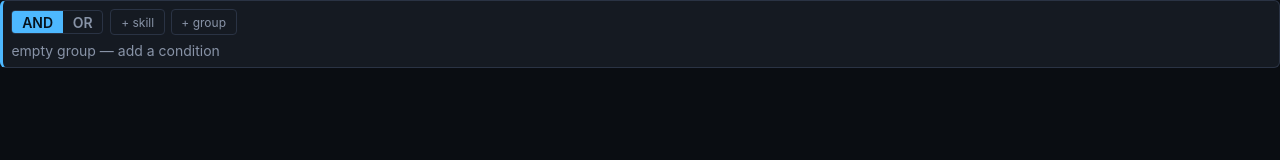
GroupEditor › removes a condition but never the root group
This screenshot has width=1280, height=160.
Click the button "+ skill" at (138, 22), box [110,9,165,35]
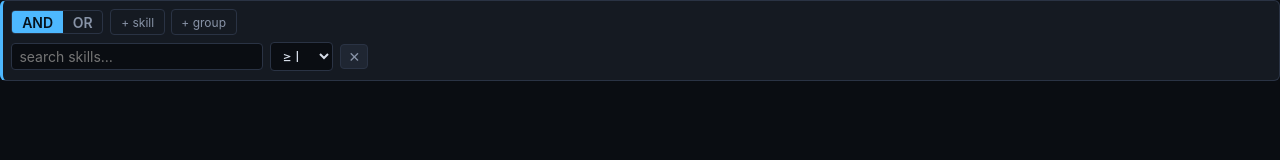
Click the button named "Remove condition" at (354, 56), box [340,44,368,69]
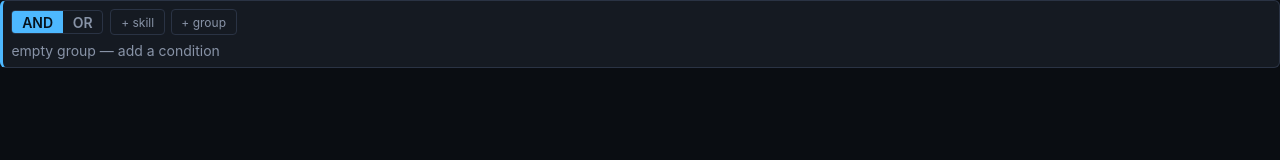
Check: the text "empty group — add a condition" is shown, box [11,42,220,59]
